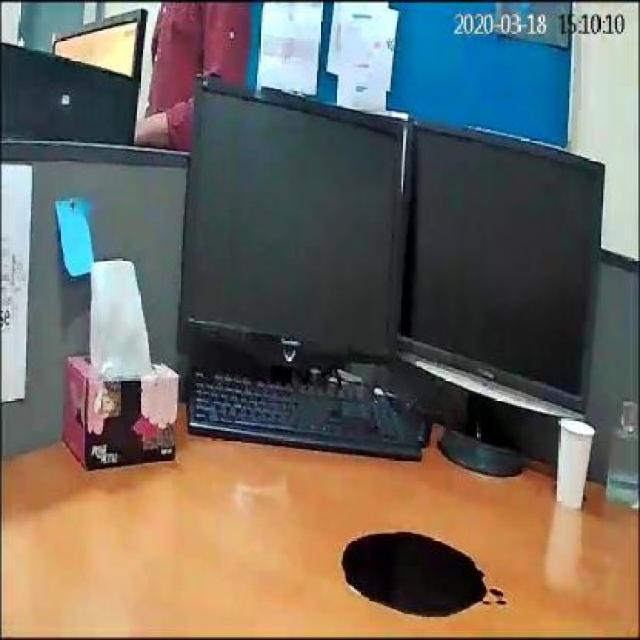spill: (342, 530, 490, 615)
